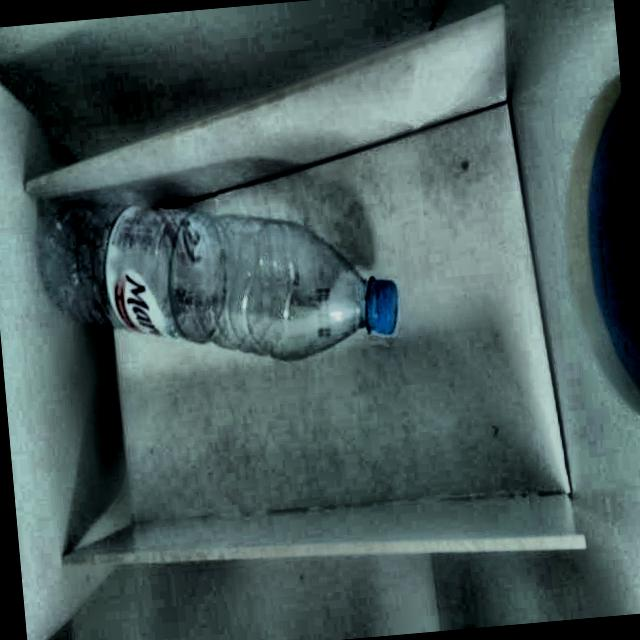plastic bottle: (38, 207, 398, 359)
